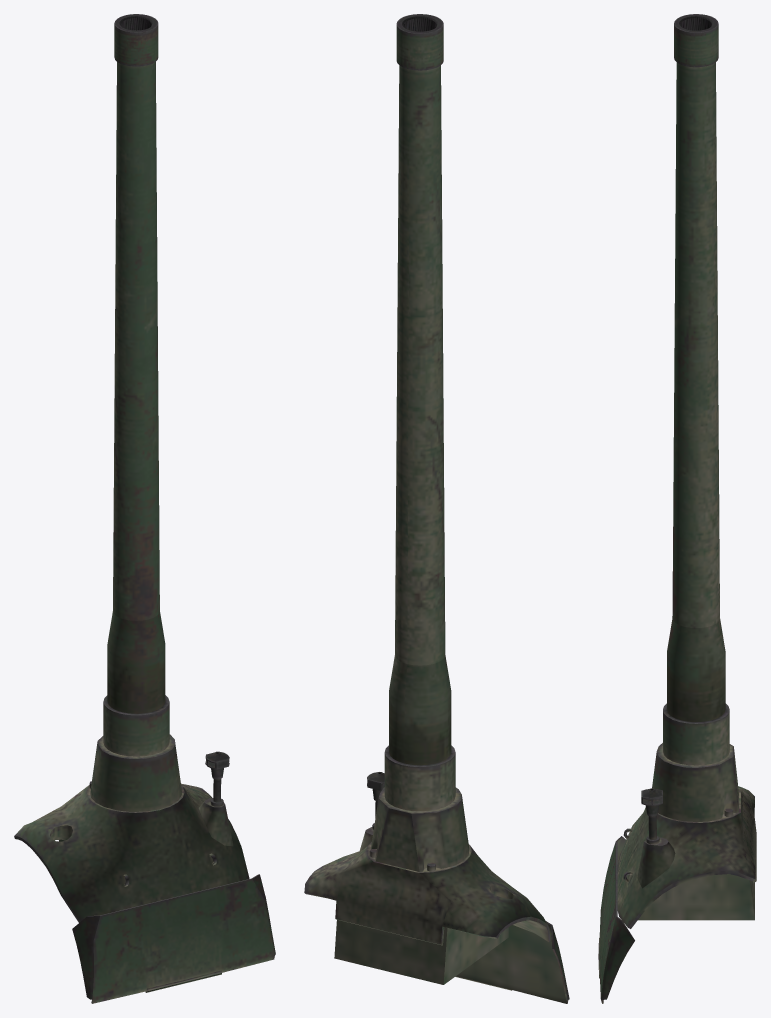
File: Gun_03.glb
3 views of the same model, side by side, from view 1: azimuth 30°, elevation 25°; view 2: azimuth 150°, elevation 25°; view 3: azimuth 270°, elevation 25° (orthographic). The views are drawn at different scales.
Parts seen in each view (by area): view 1: set_0_group_0; view 2: set_0_group_0; view 3: set_0_group_0.
Part boxes in pixels (x1=…): set_0_group_0: x1=14, y1=14, x2=275, y2=1003; set_0_group_0: x1=304, y1=14, x2=569, y2=1003; set_0_group_0: x1=598, y1=14, x2=756, y2=1003.
Size of the model in its own units: 0.8703 by 4.02 by 0.6154.
Materials: 1 (1 with a texture image).
